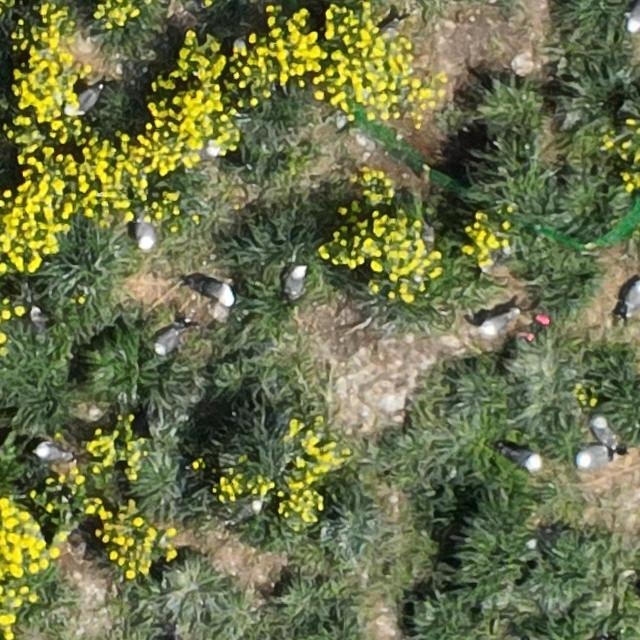umineko: (585, 411, 631, 456), (191, 282, 235, 304), (70, 87, 100, 112), (576, 446, 611, 467), (504, 448, 540, 468), (480, 312, 512, 334), (154, 327, 178, 354), (135, 217, 154, 250), (36, 443, 68, 461), (286, 266, 305, 296), (623, 280, 639, 314), (627, 0, 639, 32)
